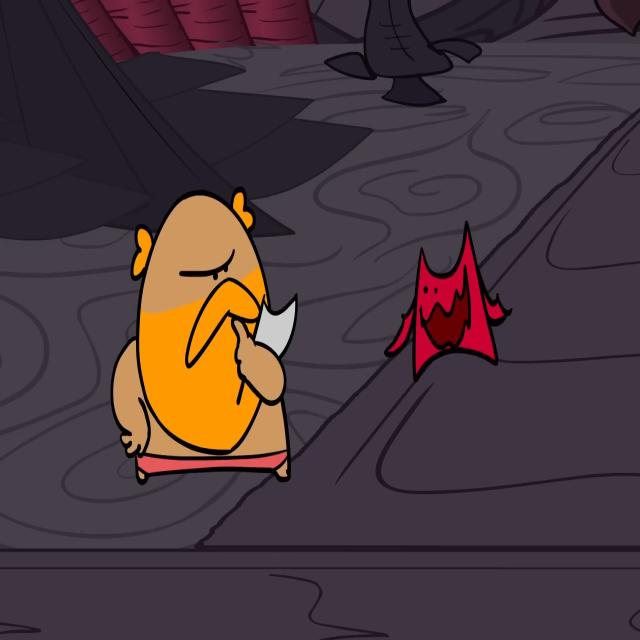Haagen-Daz: (110, 184, 292, 488)
